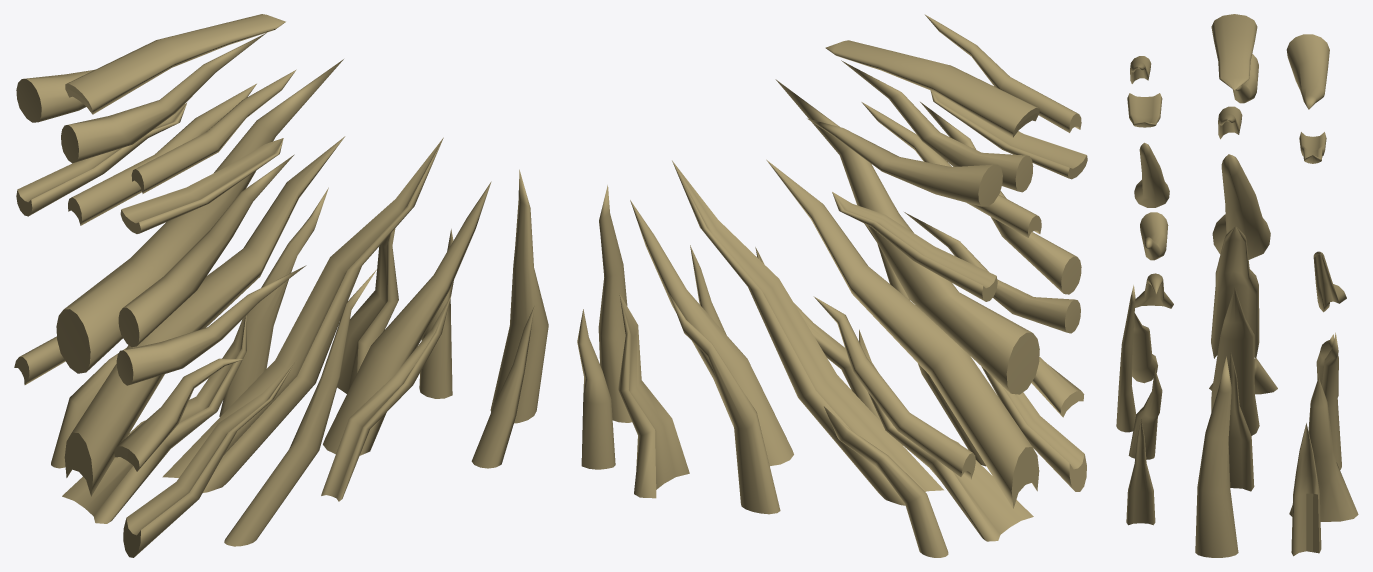
File: SM_StalagbonesCorner.fbx
3 renders of one model, left to right at view 1: azimuth 30°, elevation 25°; view 2: azimuth 150°, elevation 25°; view 3: azimuth 270°, elevation 25°, orthographic. The views are drawn at different scales.
Parts seen in each view (by area): view 1: StalagboneCorner; view 2: StalagboneCorner; view 3: StalagboneCorner.
Part boxes in pixels (box(x1,y1,x2,y2)): StalagboneCorner: box(14, 14, 548, 557); StalagboneCorner: box(577, 14, 1087, 557); StalagboneCorner: box(1116, 14, 1358, 557).
Bounding box in the file's own units: 425 × 403 × 227.
